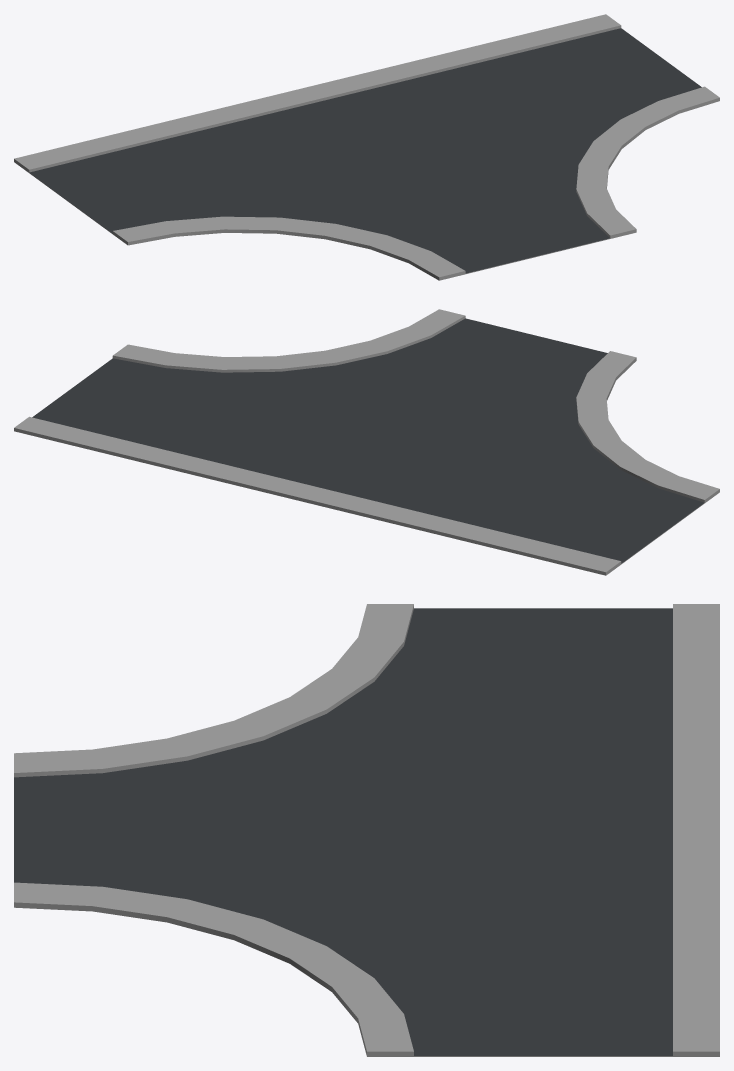
Rendered from Road_Junction_T.fbx.
The picture shows the model from 3 angles, top to bottom: view 1: azimuth 30°, elevation 25°; view 2: azimuth 150°, elevation 25°; view 3: azimuth 270°, elevation 25°; orthographic projection. The views are drawn at different scales.
Parts seen in each view (by area): view 1: Road_Junction_T; view 2: Road_Junction_T; view 3: Road_Junction_T.
Boxes of the visible parts, box(x1,y1,x2,y2) form: Road_Junction_T: box(14, 14, 719, 280); Road_Junction_T: box(14, 309, 719, 575); Road_Junction_T: box(14, 604, 719, 1056).
Bounding box in the file's own units: 1800 × 10 × 1200.
